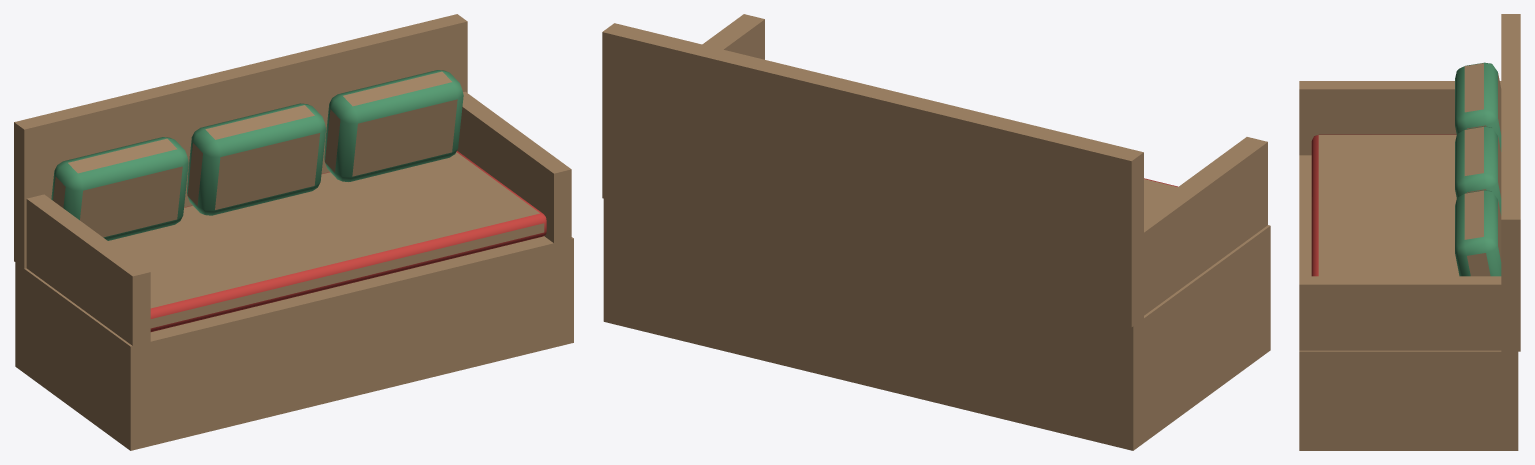
Rendered from SM_MarkazBench.fbx.
3 views of the same model, side by side, from view 1: azimuth 30°, elevation 25°; view 2: azimuth 150°, elevation 25°; view 3: azimuth 270°, elevation 25° (orthographic). The views are drawn at different scales.
Parts seen in each view (by area): view 1: SM_MarkazBench; view 2: SM_MarkazBench; view 3: SM_MarkazBench.
Part boxes in pixels (x1,y1,x2,y2): SM_MarkazBench: (14, 14, 573, 450); SM_MarkazBench: (602, 14, 1270, 450); SM_MarkazBench: (1299, 14, 1520, 450).
Size of the model in its own units: 200 by 105 by 91.
